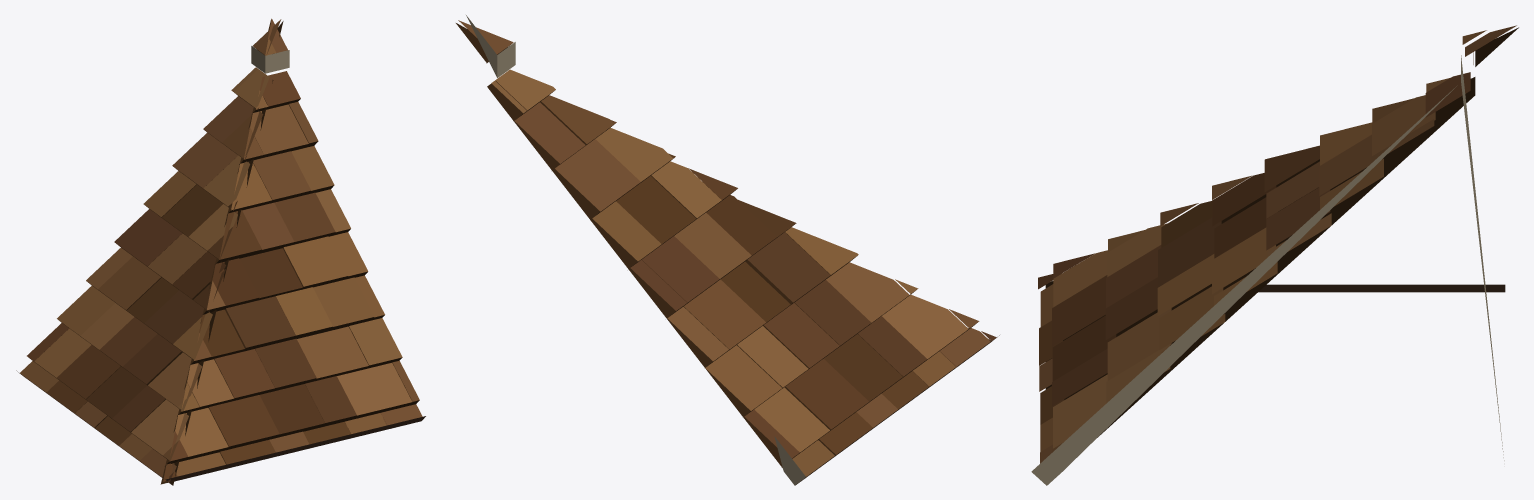
Rendered from roof-high-corner-wood.glb.
3 renders of one model, left to right at view 1: azimuth 30°, elevation 25°; view 2: azimuth 150°, elevation 25°; view 3: azimuth 270°, elevation 25°, orthographic. The views are drawn at different scales.
Parts seen in each view (by area): view 1: roof-high-corner-wood; view 2: roof-high-corner-wood; view 3: roof-high-corner-wood.
Boxes of the visible parts, bbox=[...] form: roof-high-corner-wood: bbox=[16, 18, 425, 485]; roof-high-corner-wood: bbox=[456, 15, 999, 485]; roof-high-corner-wood: bbox=[1031, 25, 1518, 485].
Size of the model in its own units: 1.1 by 1.18 by 1.1.
